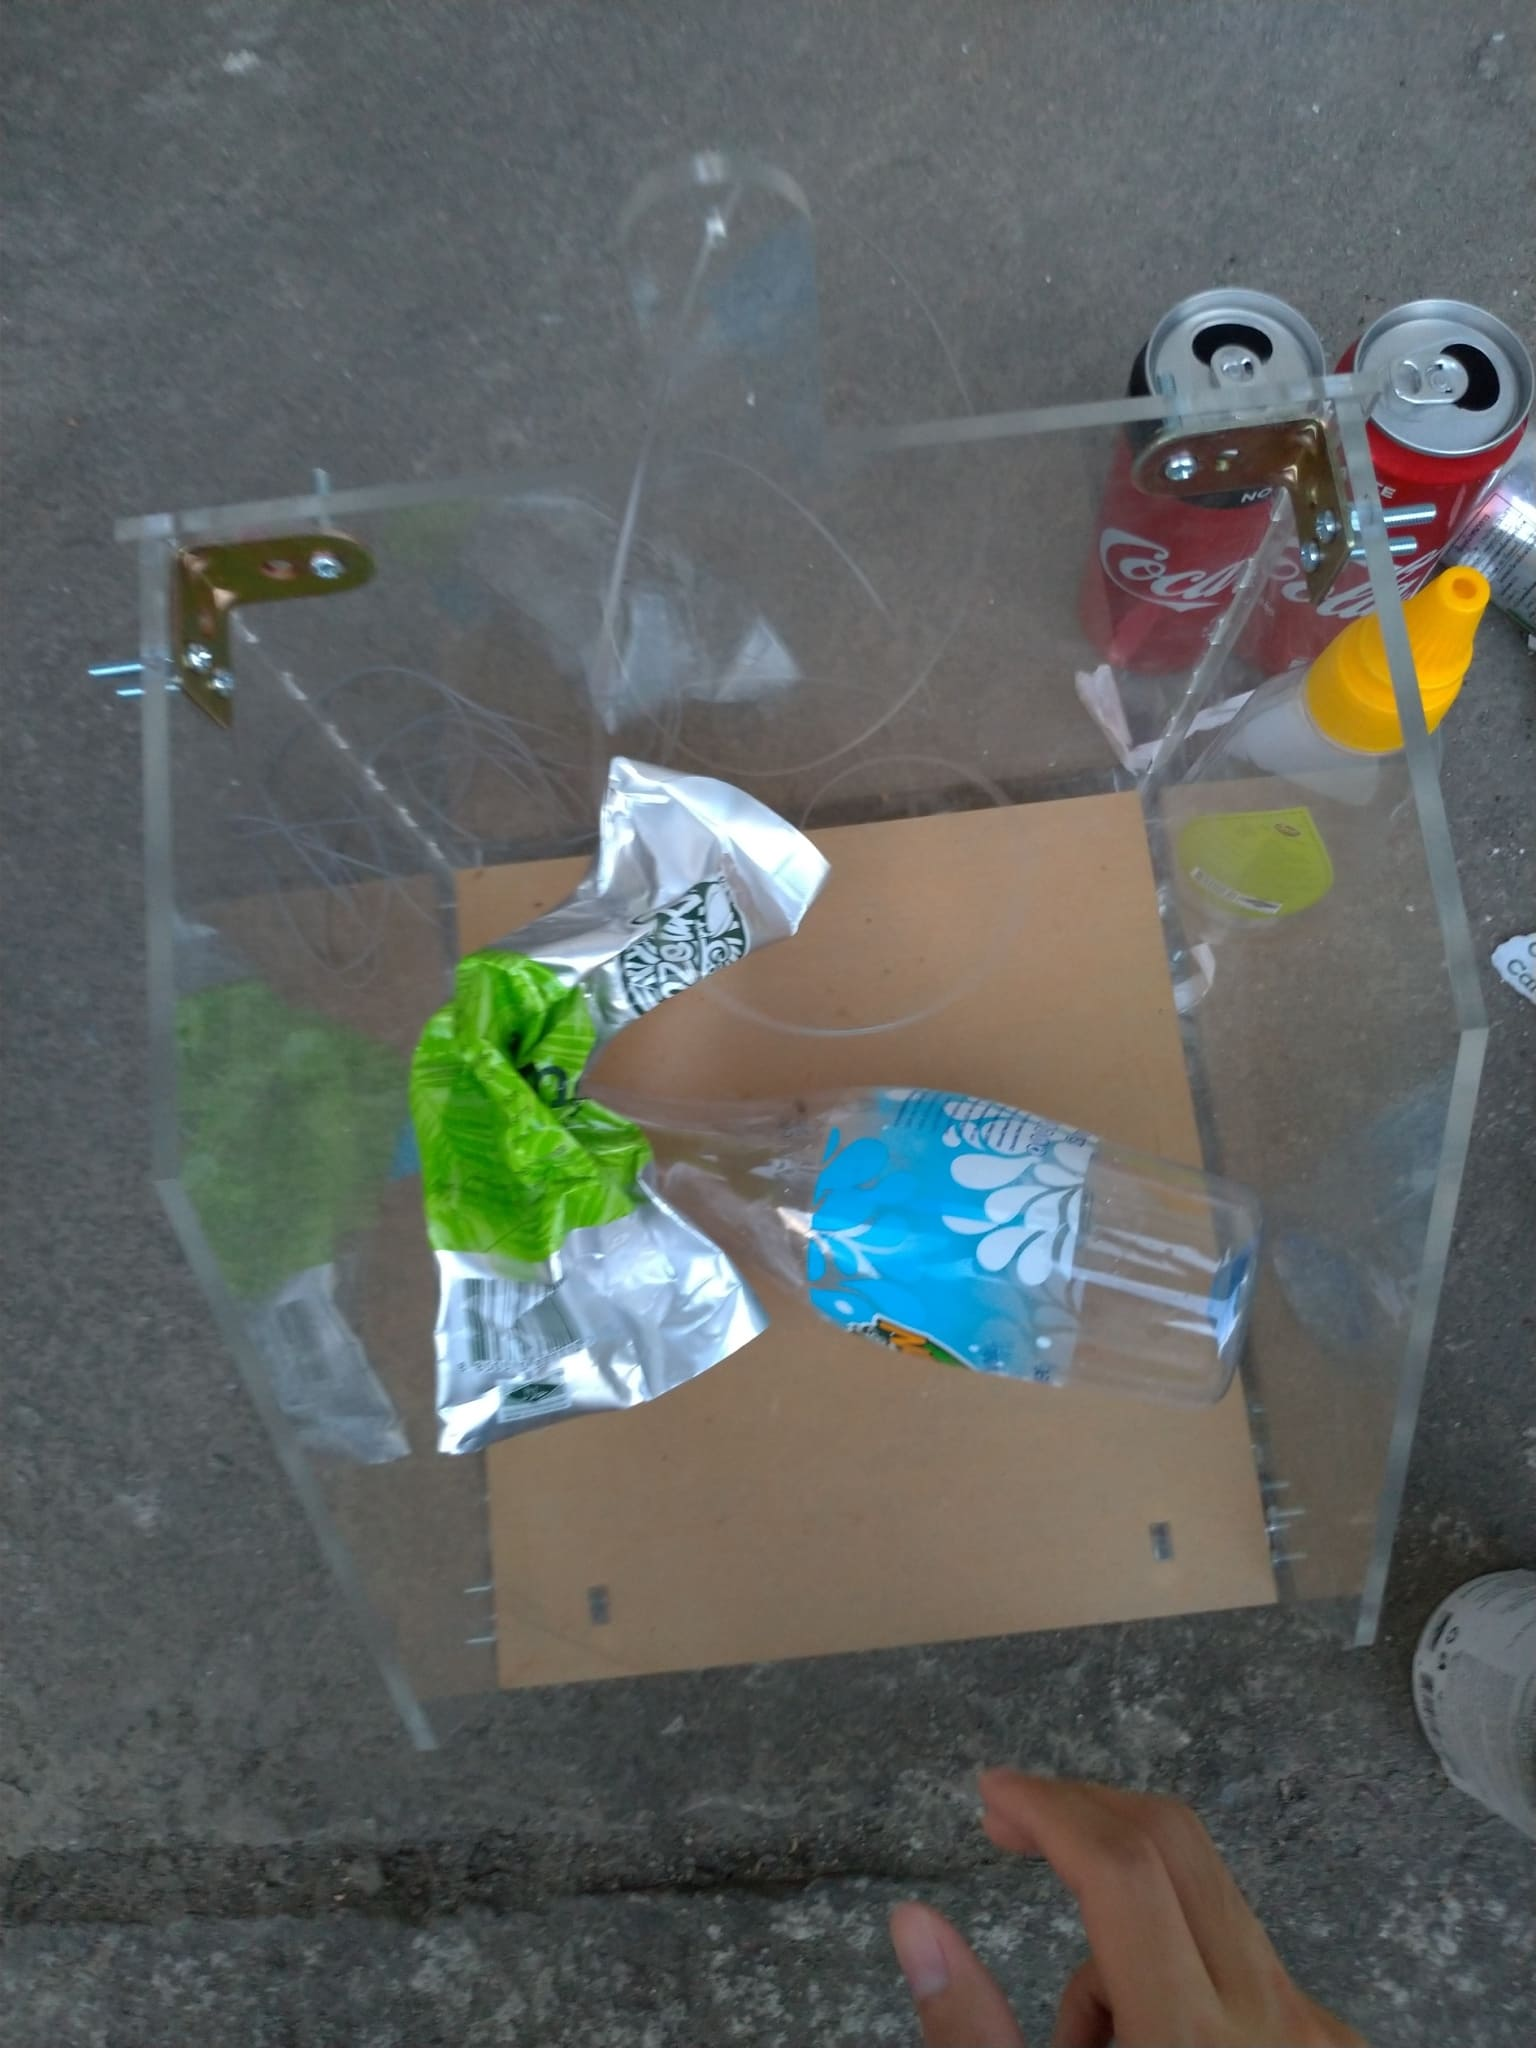AlCan: (1070, 292, 1320, 677), (1329, 295, 1536, 619)
Others: (390, 745, 829, 1442)
PlasticBottle: (679, 1089, 1267, 1408), (1163, 558, 1484, 955)
